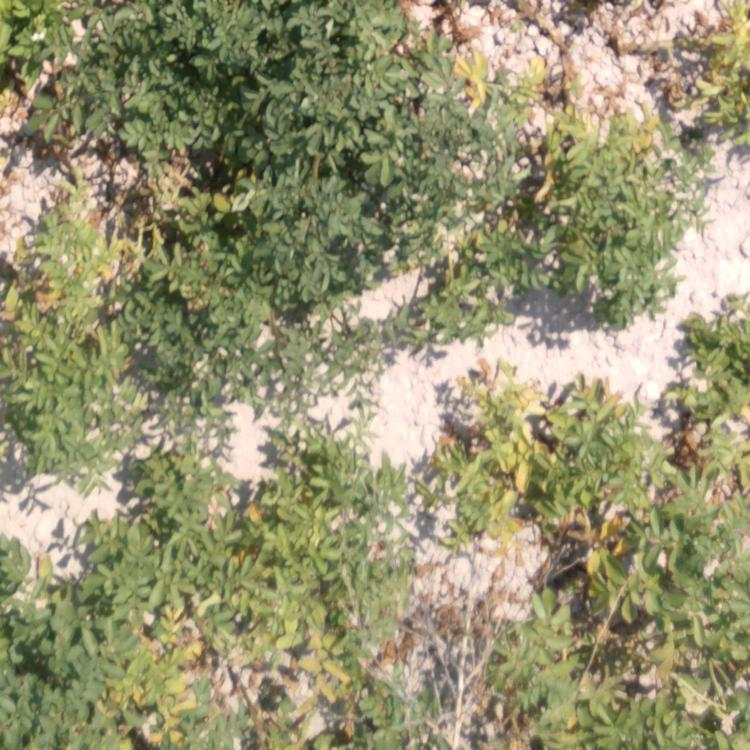healthy: (1, 1, 440, 141), (188, 288, 405, 412), (240, 146, 423, 277)
stressed: (428, 385, 748, 750), (9, 553, 432, 750), (450, 66, 670, 316), (1, 142, 241, 285), (101, 447, 401, 549), (1, 294, 176, 445), (680, 5, 750, 125), (682, 302, 750, 375)
